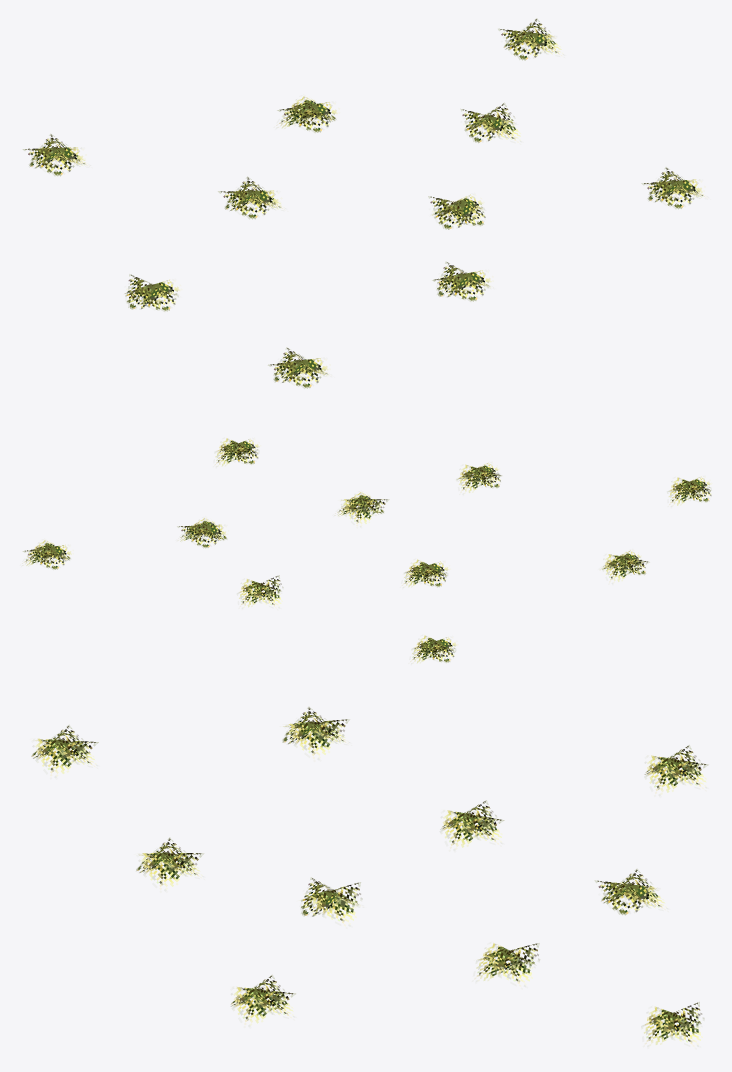
File: Environment - Vegetation - Bush 21 - PTBush21.glb
3 renders of one model, top to bottom at view 1: azimuth 30°, elevation 25°; view 2: azimuth 150°, elevation 25°; view 3: azimuth 270°, elevation 25°, orthographic. The views are drawn at different scales.
Parts seen in each view (by area): view 1: PTBUSH21; view 2: PTBUSH21; view 3: PTBUSH21.
Part boxes in pixels (box(x1,y1,x2,y2)): PTBUSH21: box(23, 18, 704, 388); PTBUSH21: box(22, 438, 711, 663); PTBUSH21: box(31, 707, 707, 1046).
Bounding box in the file's own units: 135 × 5.48 × 123.
Materials: 1 (1 with a texture image).
